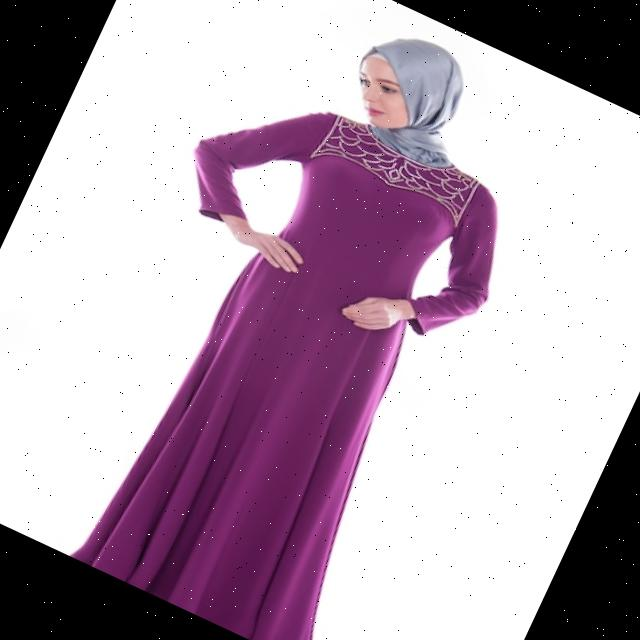Person: (18, 0, 575, 640)
